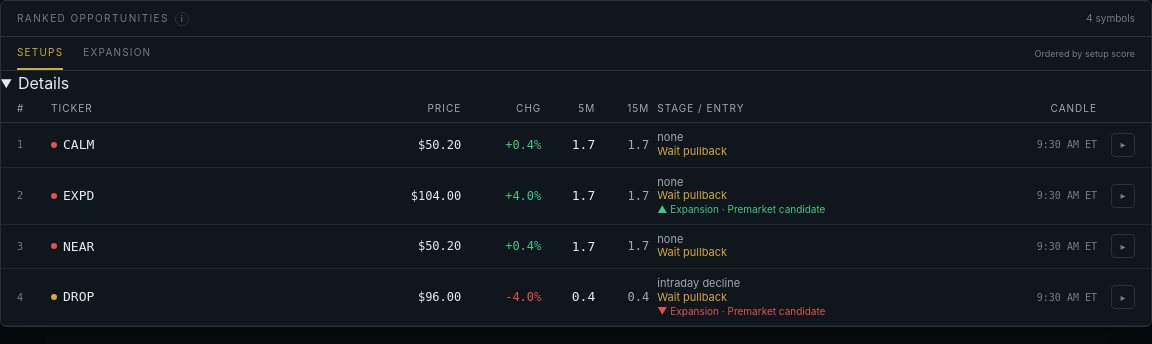
Scenario: the move columns say which move they mean › labels them PM on the expansion tab, so they cannot be read as live
The width and height of the screenshot is (1152, 344).
Step 1. Click the tab "expansion" → (117, 54), box [83, 37, 151, 70]
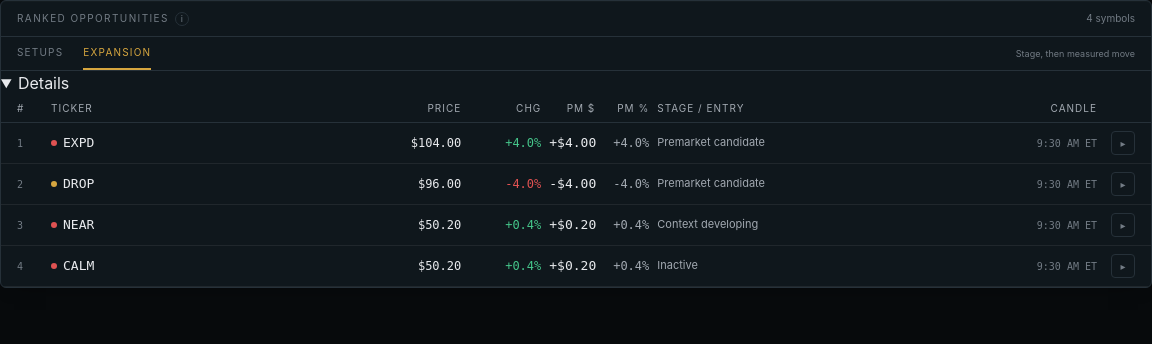
Check: the text "PM $" is shown, box [567, 102, 595, 114]
Check: the text "PM %" is shown, box [617, 102, 649, 114]
